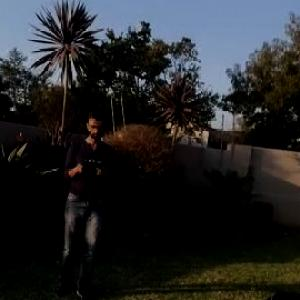follow: (51, 103, 117, 299)
null: (248, 287, 299, 299)
